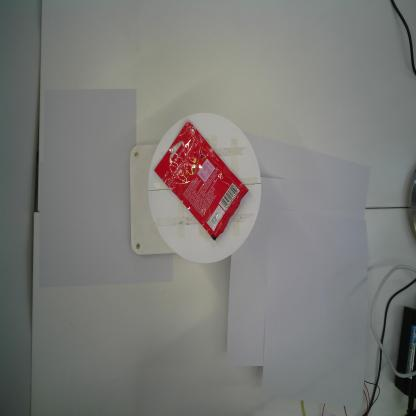Candy: (154, 120, 249, 242)
